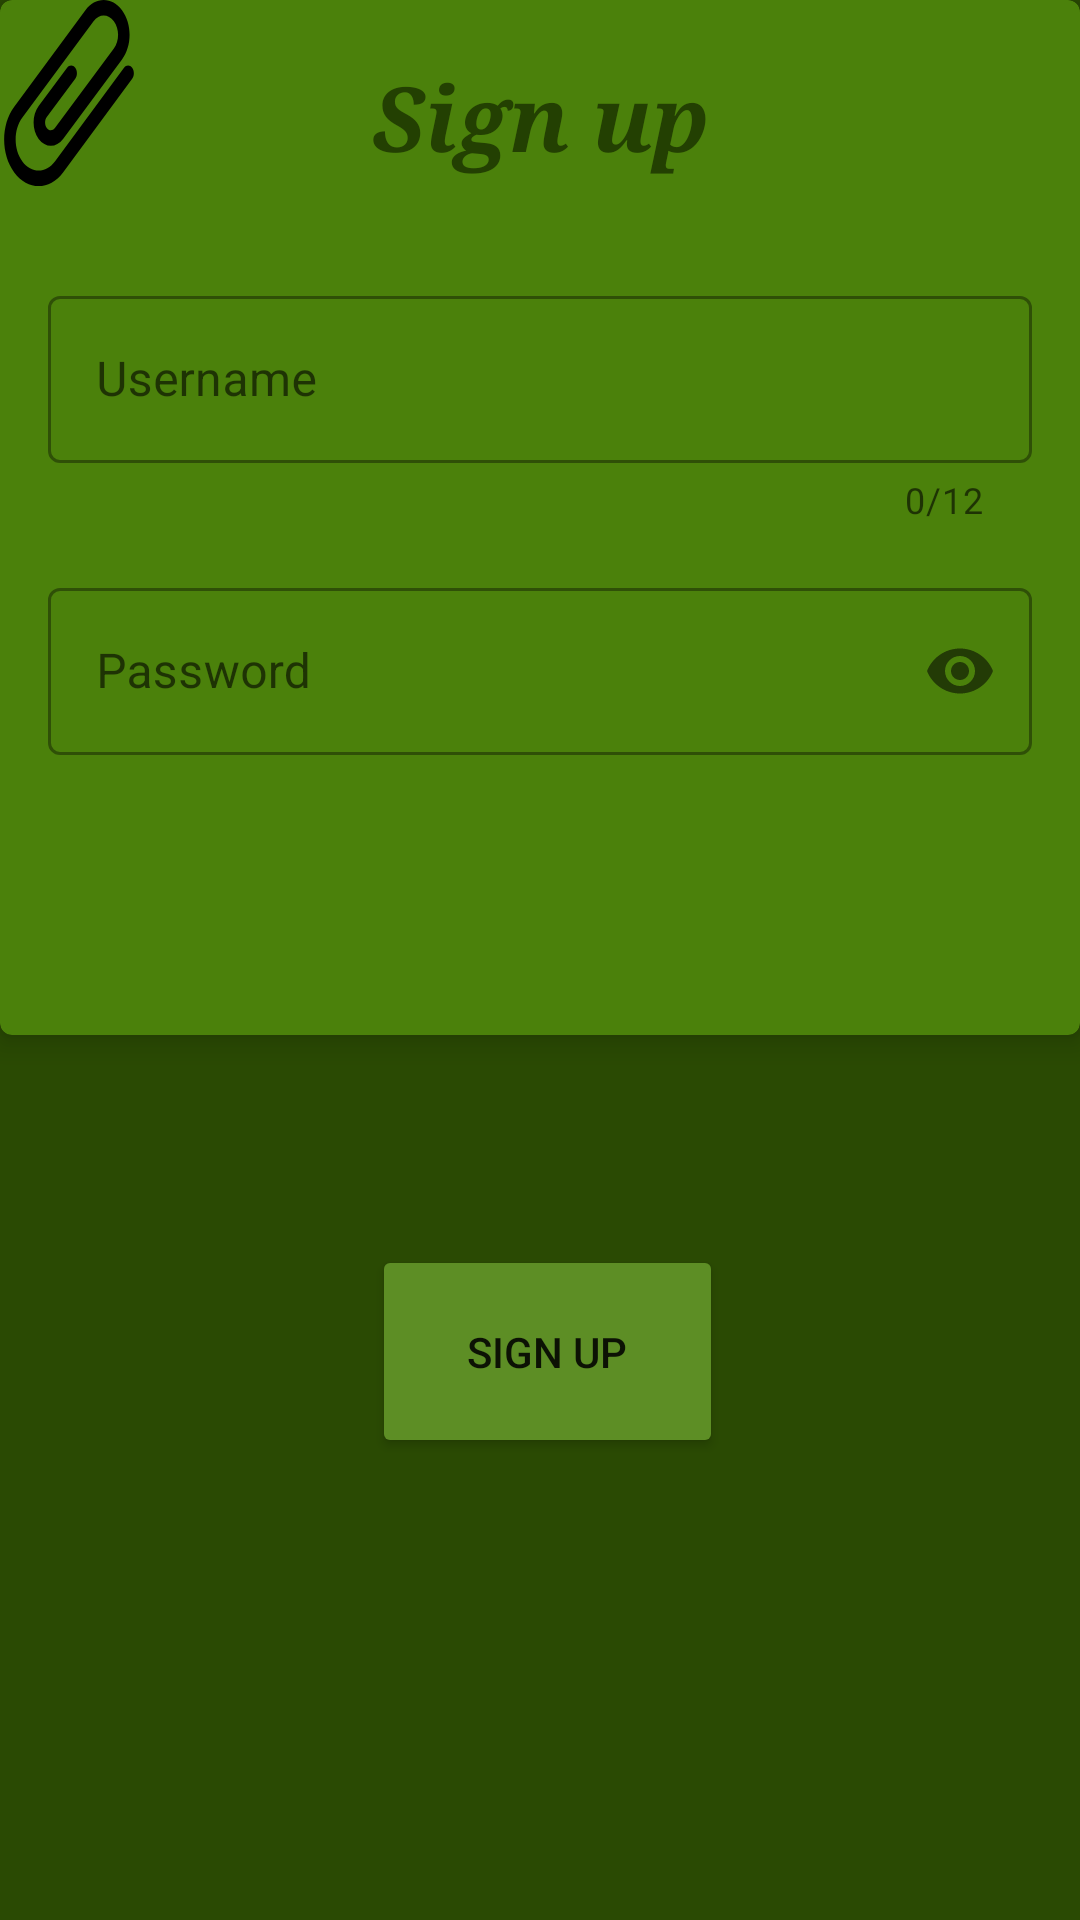

Named icons in this screenshot (1080w x 1920h) and their bounding boxes, (x1, y1, x2, y2):
paper clip: (0, 0, 134, 186)
